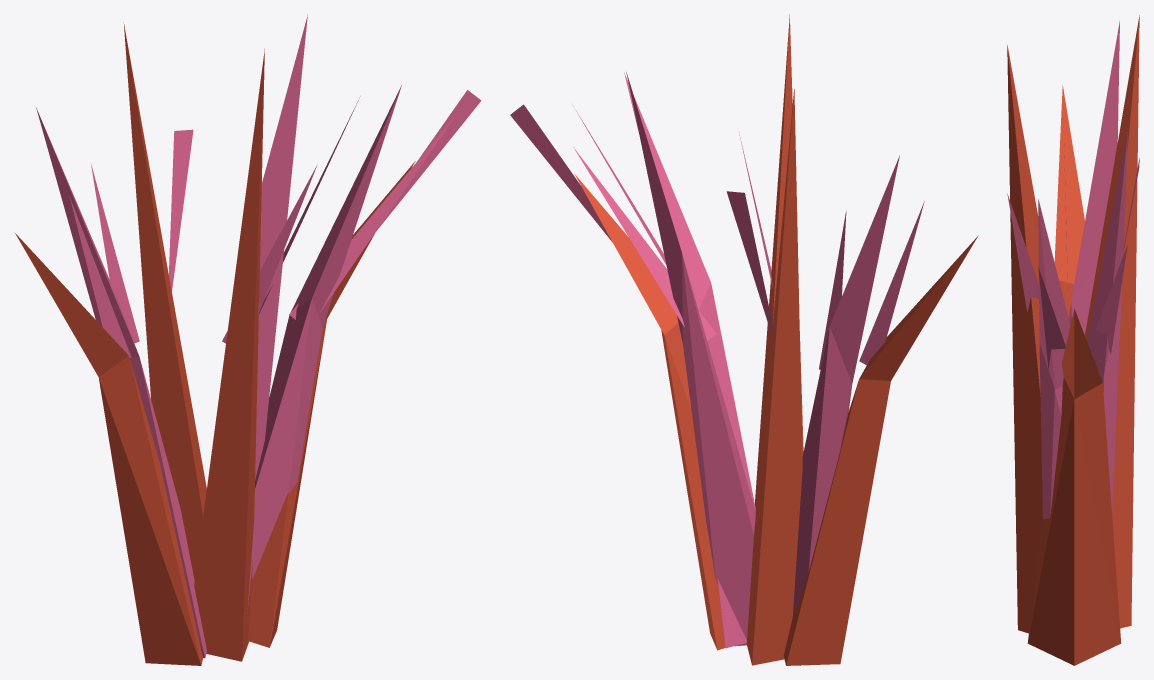
The model's file is aq_coral_fan.fbx.
3 renders of one model, left to right at view 1: azimuth 30°, elevation 25°; view 2: azimuth 150°, elevation 25°; view 3: azimuth 270°, elevation 25°, orthographic. The views are drawn at different scales.
Visible parts, largest first — view 1: aq_coral_fan; view 2: aq_coral_fan; view 3: aq_coral_fan.
Part boxes in pixels (box(x1,y1,x2,y2)): aq_coral_fan: box(14, 14, 481, 665); aq_coral_fan: box(510, 14, 978, 665); aq_coral_fan: box(1007, 15, 1139, 665).
Size of the model in its own units: 0.8 by 1 by 0.2.
